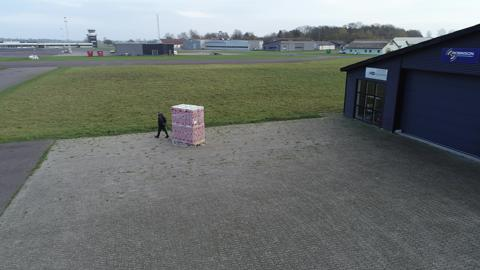RockwoolPallet: (171, 102, 207, 146)
